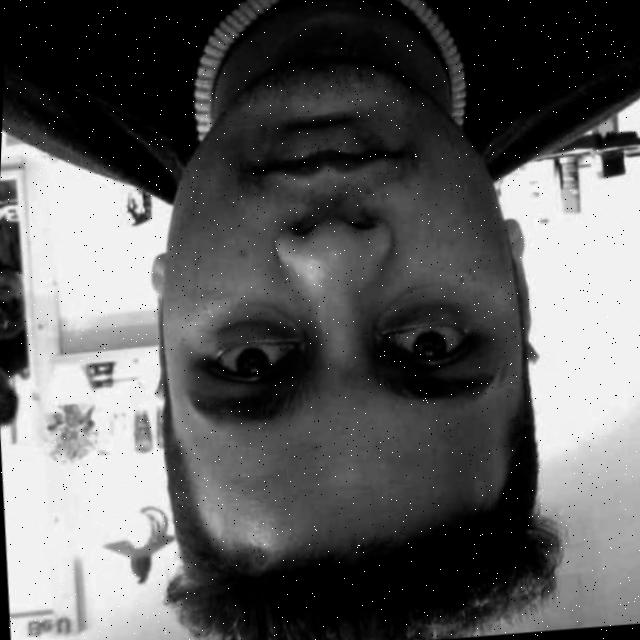puffy_eyes: (206, 303, 314, 344), (371, 291, 457, 332), (209, 319, 291, 353), (382, 306, 475, 329)
